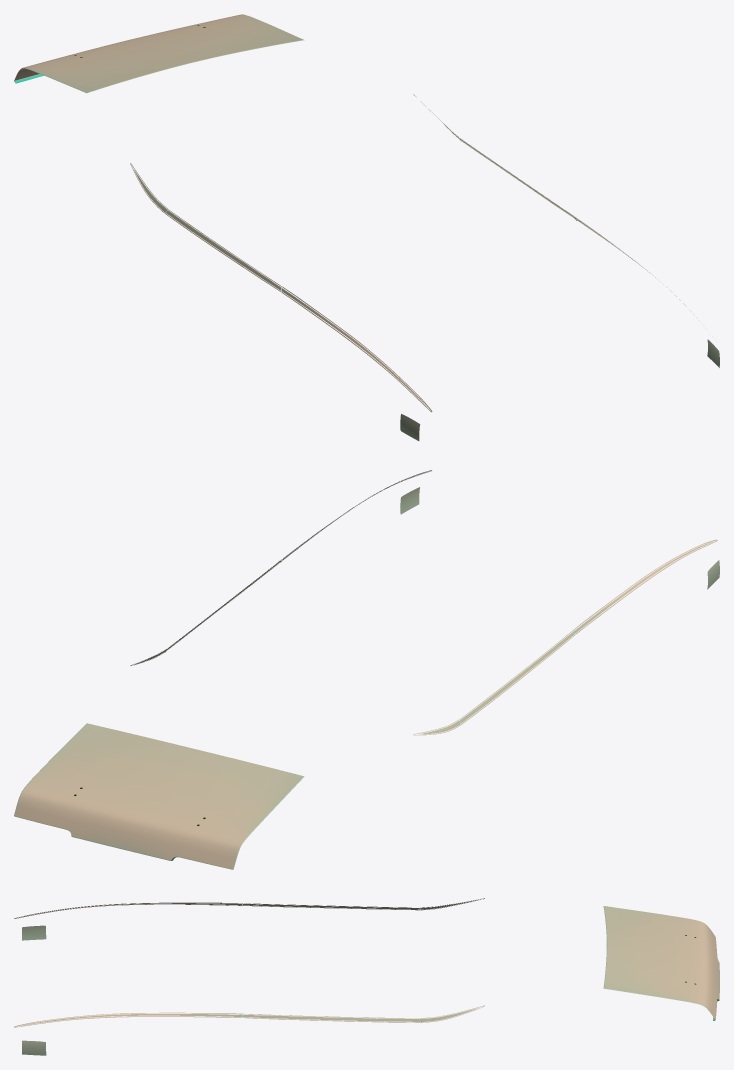
Rendered from Pontiac_GTOTheJudgeClassic_1969_Body2a_lodA.fbx.
3 views of the same model, one above another, from view 1: azimuth 30°, elevation 25°; view 2: azimuth 150°, elevation 25°; view 3: azimuth 270°, elevation 25° (orthographic). The views are drawn at different scales.
Visible parts, largest first — view 1: Body2a_Paint_Geo_lodA; view 2: Body2a_Paint_Geo_lodA; view 3: Body2a_Paint_Geo_lodA.
Part boxes in pixels (x1=…): Body2a_Paint_Geo_lodA: x1=14, y1=14, x2=719, y2=440; Body2a_Paint_Geo_lodA: x1=14, y1=470, x2=719, y2=869; Body2a_Paint_Geo_lodA: x1=14, y1=898, x2=719, y2=1055.
Size of the model in its own units: 1.88 by 0.7606 by 4.8.
